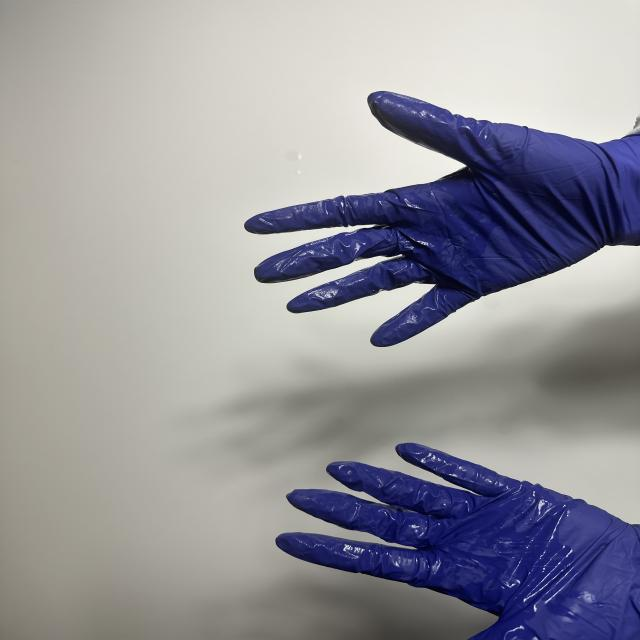gloves_contaminated: (245, 91, 640, 346), (276, 443, 640, 640)
